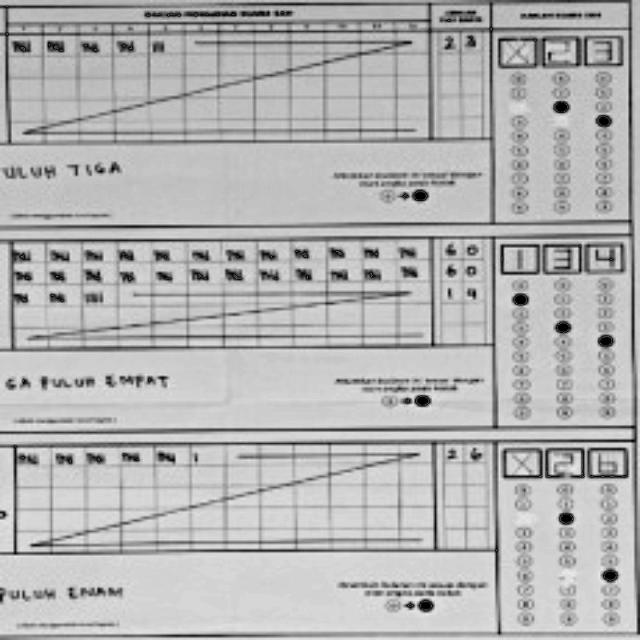Suara: (493, 29, 624, 72), (500, 445, 635, 486), (496, 240, 624, 281)
